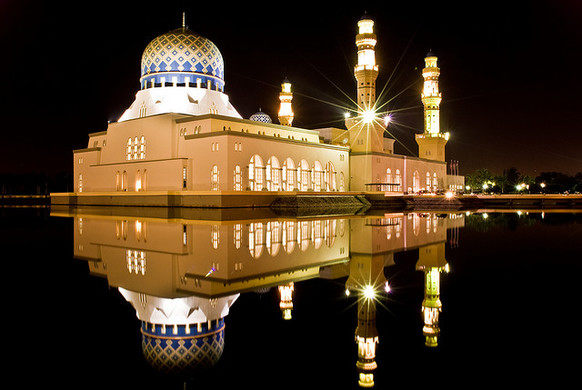Mosque: (60, 6, 454, 208)
